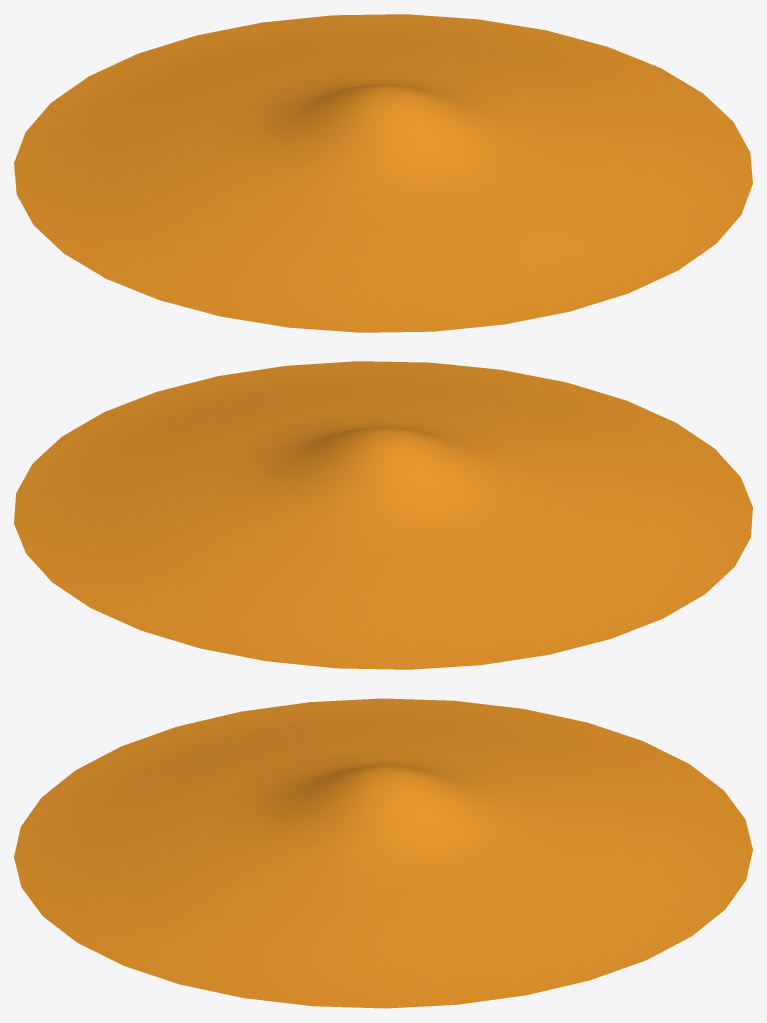
The model's file is crash.fbx.
3 renders of one model, top to bottom at view 1: azimuth 30°, elevation 25°; view 2: azimuth 150°, elevation 25°; view 3: azimuth 270°, elevation 25°, orthographic.
Parts seen in each view (by area): view 1: Circle; view 2: Circle; view 3: Circle.
Boxes of the visible parts, x1=… form: Circle: x1=14, y1=14, x2=752, y2=332; Circle: x1=14, y1=361, x2=752, y2=669; Circle: x1=14, y1=698, x2=752, y2=1008.
Size of the model in its own units: 42.83 by 5.17 by 42.83.
